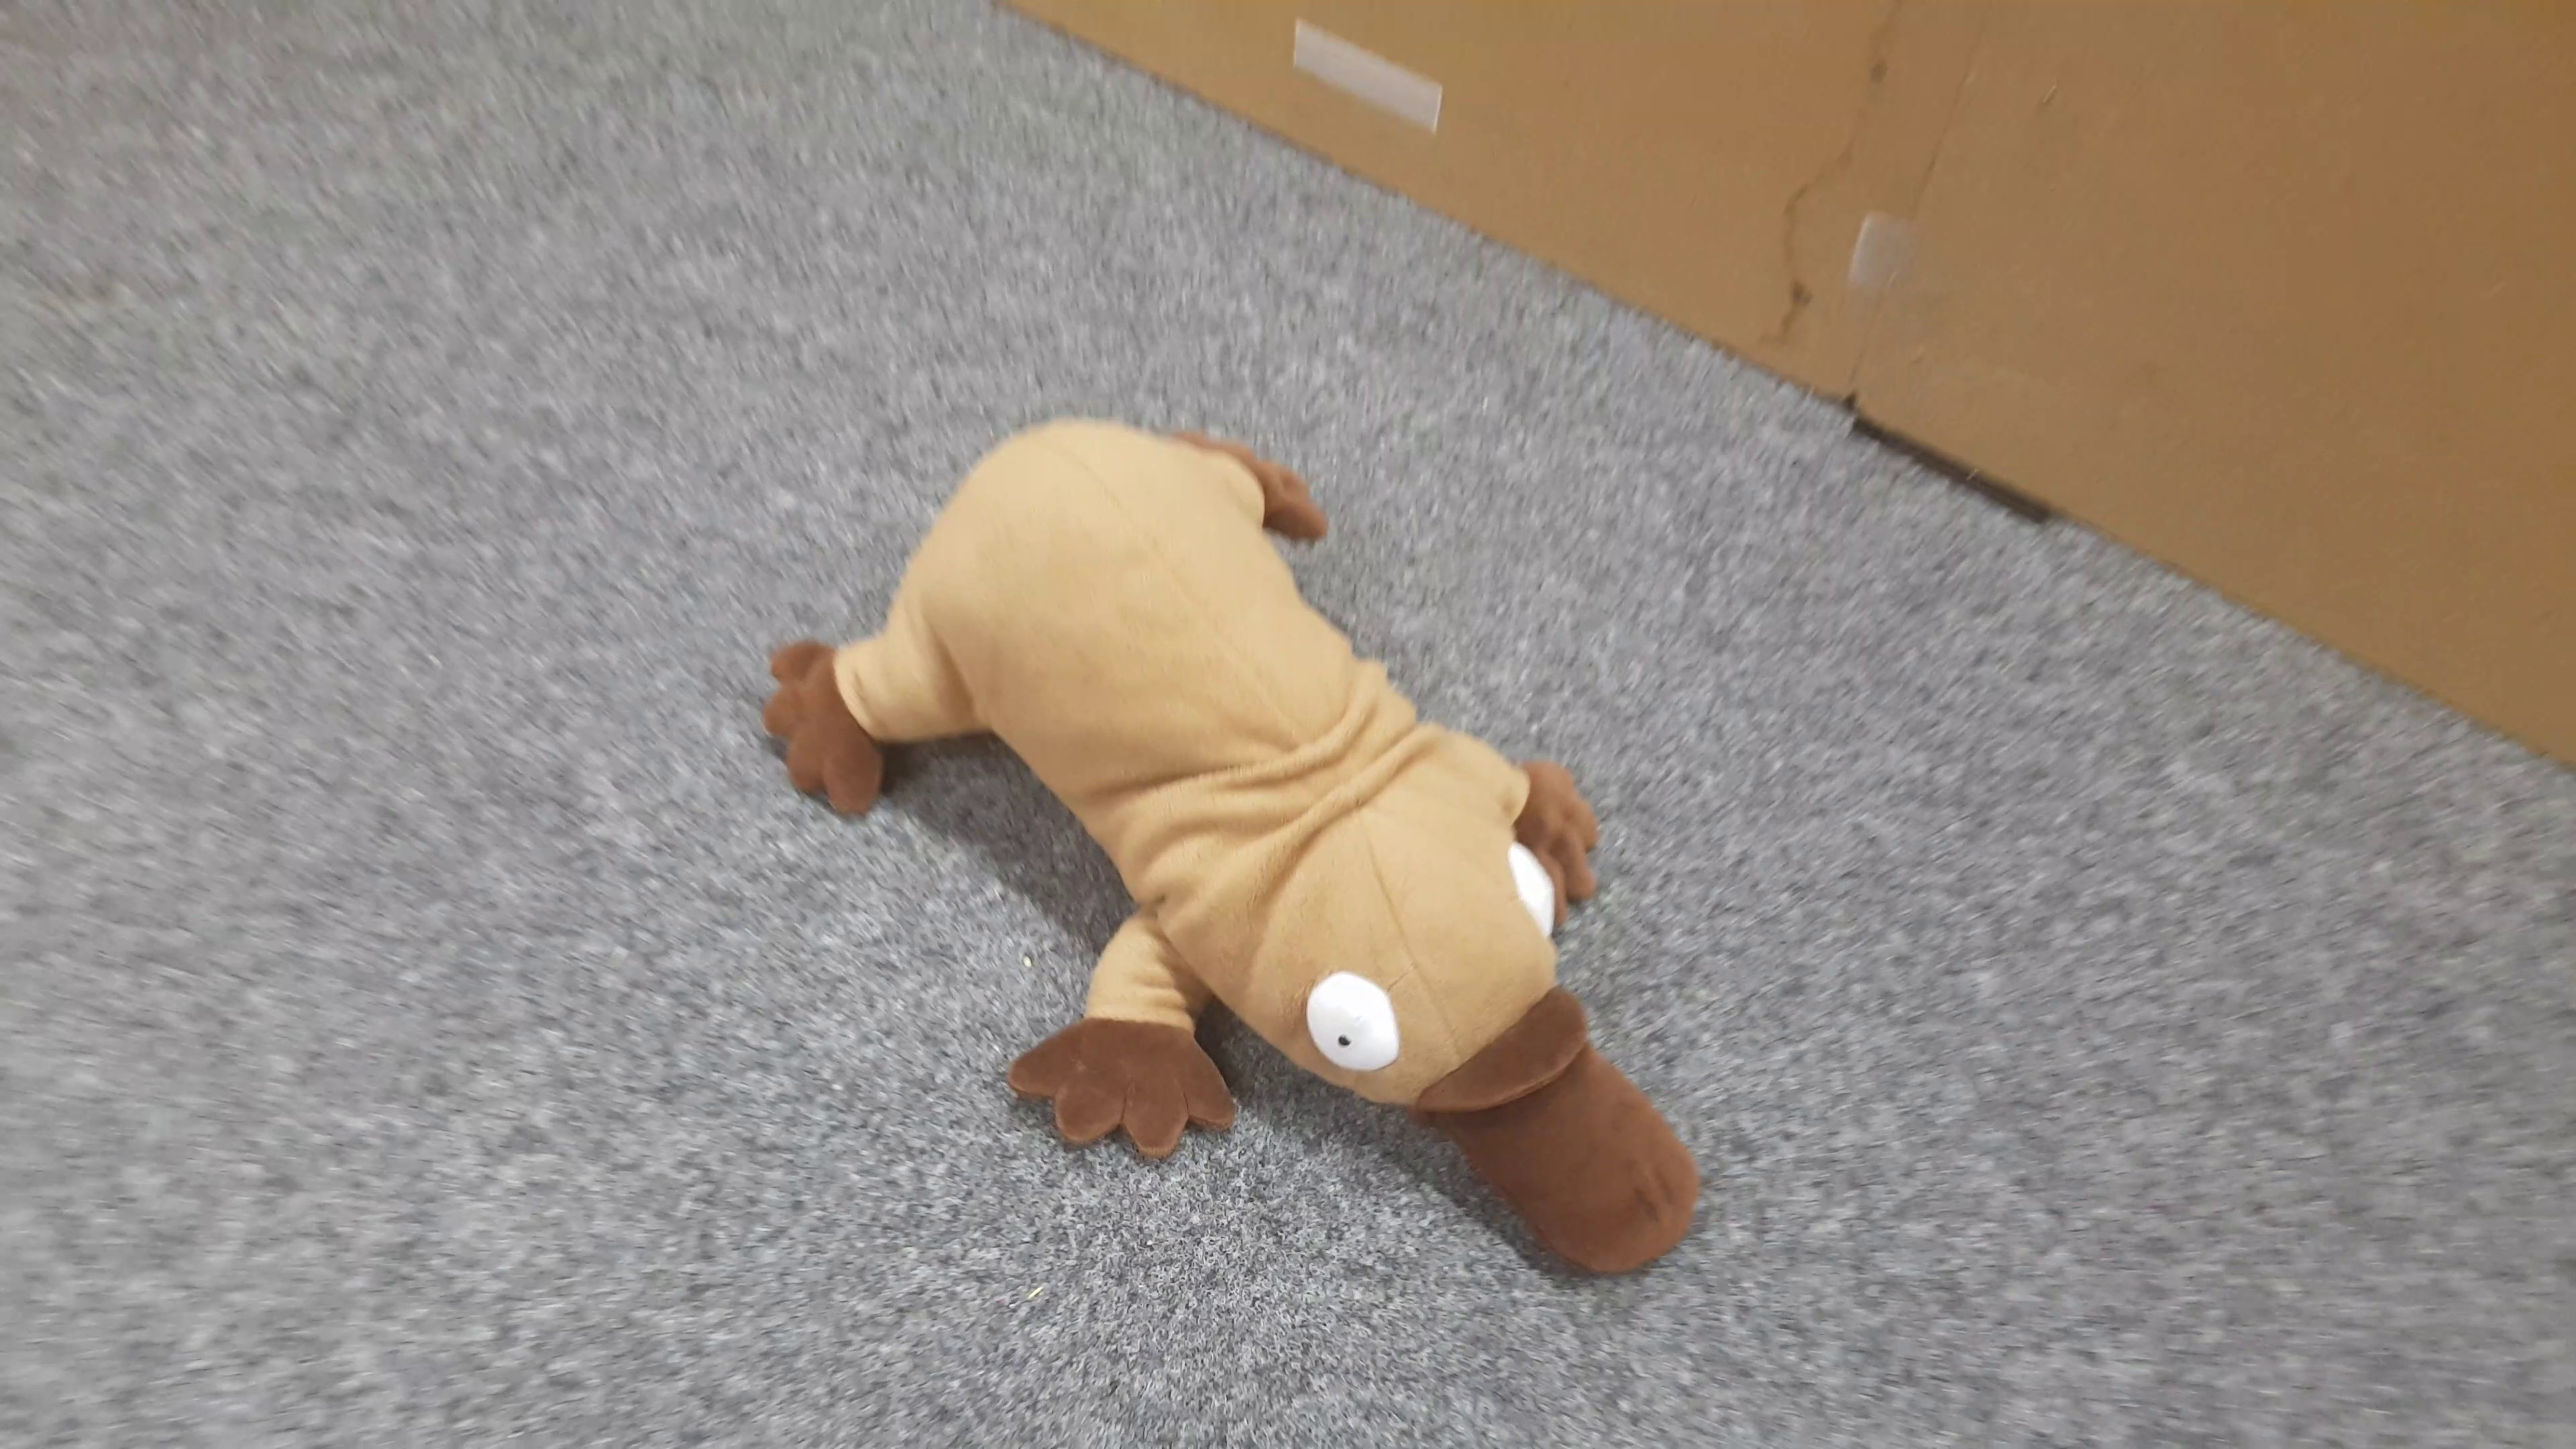grasp: (770, 412, 1698, 1292)
